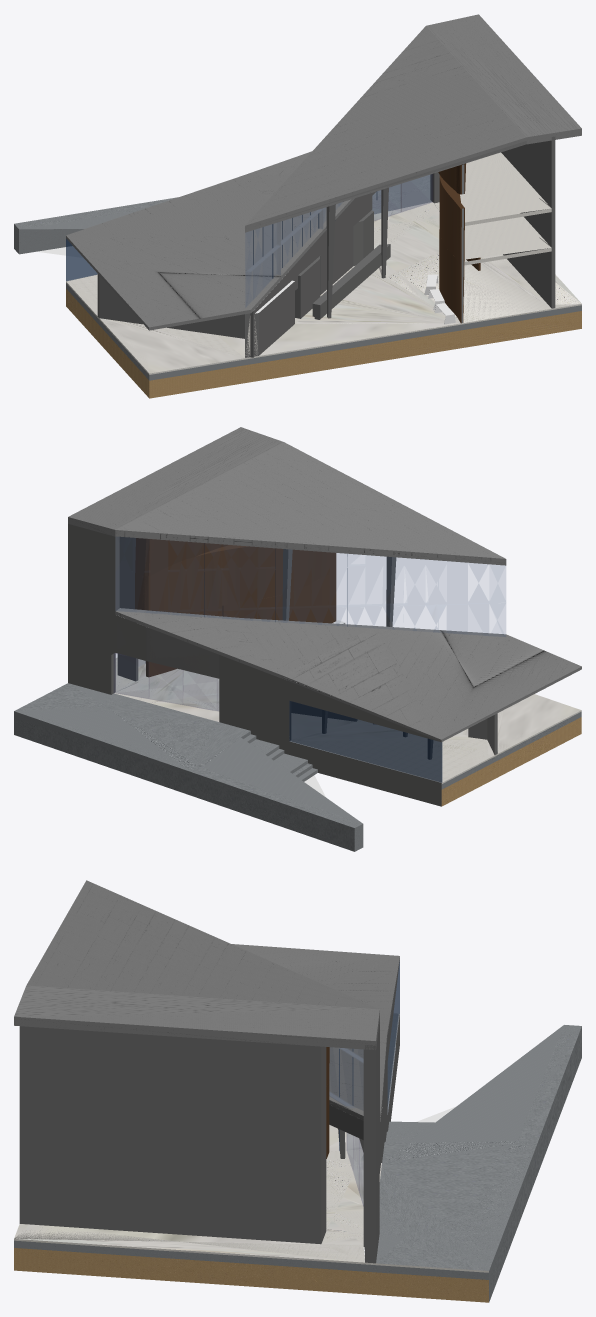
The picture shows the model from 3 angles, top to bottom: view 1: azimuth 30°, elevation 25°; view 2: azimuth 150°, elevation 25°; view 3: azimuth 270°, elevation 25°; orthographic projection. The views are drawn at different scales.
Visible parts, largest first — view 1: Object_156_Carrera Marble_0, Object_233_Carrera Marble_0, Object_318_Terrazzo Tile Light_0, Object_62_Terrazzo Tile Light_0, Object_63_Groundcover Sand Smooth_0, Object_412_Carrera Marble_0, Object_319_Groundcover Sand Smooth_0, Object_45_Blacktop Old 01_0, Object_469_Carrera Marble_0, Object_489_Carrera Marble_0, Object_32_Polished Concrete Old_0, Object_257_Terrazzo Tile Light_0 (+16 smaller); view 2: Object_156_Carrera Marble_0, Object_233_Carrera Marble_0, Object_412_Carrera Marble_0, Object_301_Blacktop Old 01_0, Object_45_Blacktop Old 01_0, Object_208_Wood Bamboo Medium_0, Object_318_Terrazzo Tile Light_0, Object_489_Carrera Marble_0, Object_254_Translucent Glass Blue]1_0, Object_62_Terrazzo Tile Light_0, Object_459_Polished Concrete Old_0, Object_203_Polished Concrete Old_0 (+17 smaller); view 3: Object_289_Polished Concrete Old_0, Object_33_Polished Concrete Old_0, Object_301_Blacktop Old 01_0, Object_233_Carrera Marble_0, Object_45_Blacktop Old 01_0, Object_63_Groundcover Sand Smooth_0, Object_213_Carrera Marble_0, Object_489_Carrera Marble_0, Object_318_Terrazzo Tile Light_0, Object_469_Carrera Marble_0, Object_156_Carrera Marble_0, Object_62_Terrazzo Tile Light_0 (+5 smaller).
Part boxes in pixels (<box>): Object_156_Carrera Marble_0: <box>66,151,354,330</box>; Object_233_Carrera Marble_0: <box>245,26,526,232</box>; Object_318_Terrazzo Tile Light_0: <box>66,202,581,374</box>; Object_62_Terrazzo Tile Light_0: <box>66,202,581,374</box>; Object_63_Groundcover Sand Smooth_0: <box>66,289,581,398</box>; Object_412_Carrera Marble_0: <box>66,152,353,329</box>; Object_319_Groundcover Sand Smooth_0: <box>66,289,581,398</box>; Object_45_Blacktop Old 01_0: <box>14,176,581,380</box>; Object_469_Carrera Marble_0: <box>426,15,581,143</box>; Object_489_Carrera Marble_0: <box>245,34,526,230</box>; Object_32_Polished Concrete Old_0: <box>167,193,372,357</box>; Object_257_Terrazzo Tile Light_0: <box>460,152,551,225</box>; Object_156_Carrera Marble_0: <box>115,608,581,742</box>; Object_233_Carrera Marble_0: <box>115,442,505,565</box>; Object_412_Carrera Marble_0: <box>115,608,579,740</box>; Object_301_Blacktop Old 01_0: <box>14,683,581,851</box>; Object_45_Blacktop Old 01_0: <box>14,683,581,851</box>; Object_208_Wood Bamboo Medium_0: <box>135,545,336,613</box>; Object_318_Terrazzo Tile Light_0: <box>115,657,581,783</box>; Object_489_Carrera Marble_0: <box>115,443,506,565</box>; Object_254_Translucent Glass Blue]1_0: <box>289,701,442,782</box>; Object_62_Terrazzo Tile Light_0: <box>114,662,581,782</box>; Object_459_Polished Concrete Old_0: <box>68,524,119,694</box>; Object_203_Polished Concrete Old_0: <box>68,524,119,694</box>; Object_289_Polished Concrete Old_0: <box>19,1026,326,1243</box>; Object_33_Polished Concrete Old_0: <box>19,1026,326,1244</box>; Object_301_Blacktop Old 01_0: <box>14,1025,581,1300</box>; Object_233_Carrera Marble_0: <box>26,880,378,1009</box>; Object_45_Blacktop Old 01_0: <box>14,1025,581,1302</box>; Object_63_Groundcover Sand Smooth_0: <box>14,1030,488,1302</box>; Object_213_Carrera Marble_0: <box>14,1009,379,1049</box>; Object_489_Carrera Marble_0: <box>27,881,367,1007</box>; Object_318_Terrazzo Tile Light_0: <box>14,1125,486,1272</box>; Object_469_Carrera Marble_0: <box>14,985,379,1048</box>; Object_156_Carrera Marble_0: <box>232,944,399,1120</box>; Object_62_Terrazzo Tile Light_0: <box>14,1013,488,1272</box>.
Bounding box in the file's own units: 25.99 × 11.09 × 22.49.
Materials: 12 (4 with a texture image).
